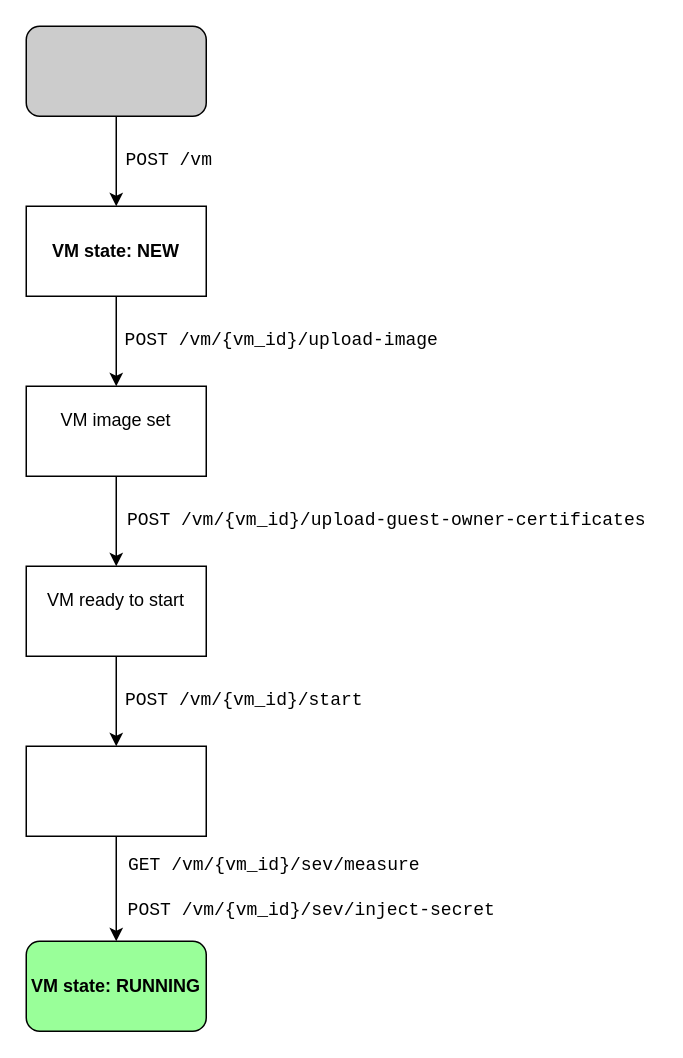
This 683x1058 diagram has some shape labels left out. The shapes that lost their labels are listed below. From the top down, each one's centre as x and y in pixels, then its label:
At pixel 115 70: "Start".
At pixel 115 790: "VM state: STARTED VM allocated in Qemu, not running".
